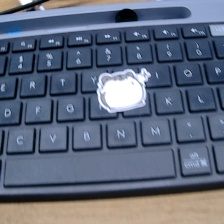mouse: (91, 64, 154, 115)
